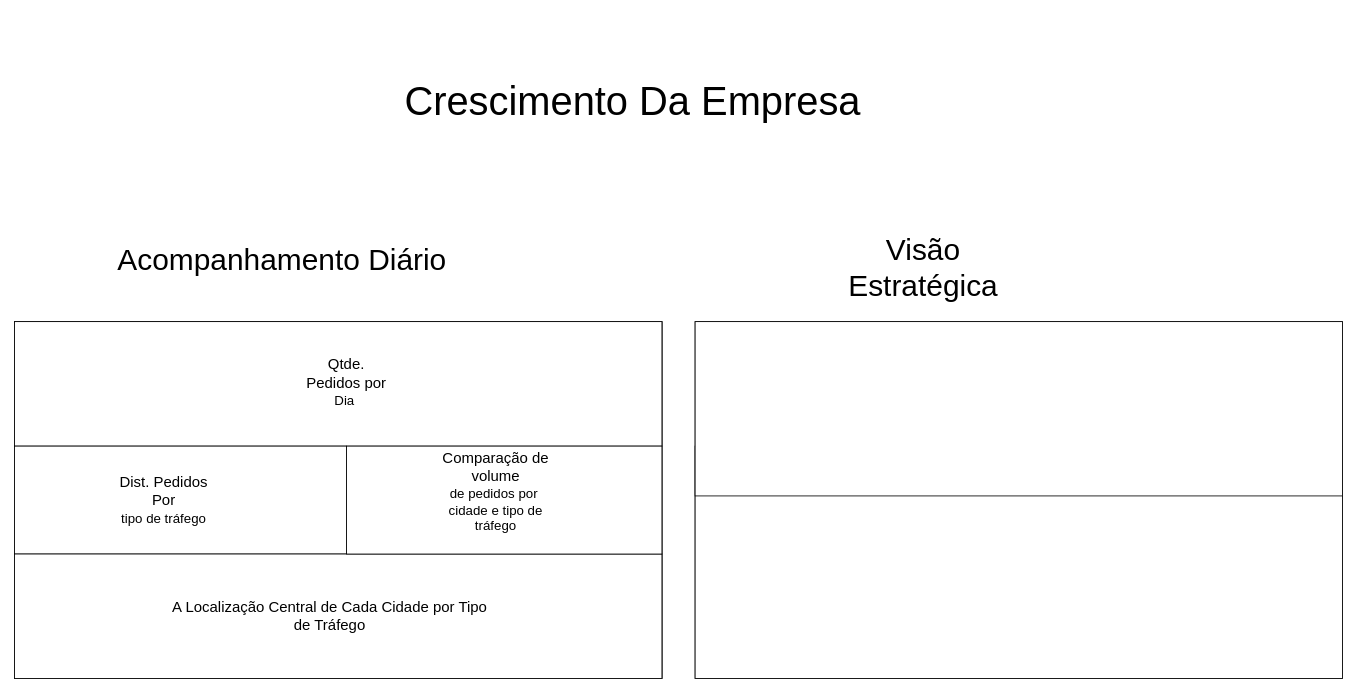
This 1357x693 diagram has some shape labels left out. The box of each missing label's shape, as (x1, y1, x2, y2) in pixels:
A Quantidade de Pedidos por Entregador por Semana: (694, 445, 1343, 679)
Qtde. Pedidos por semana: (694, 321, 1343, 496)
